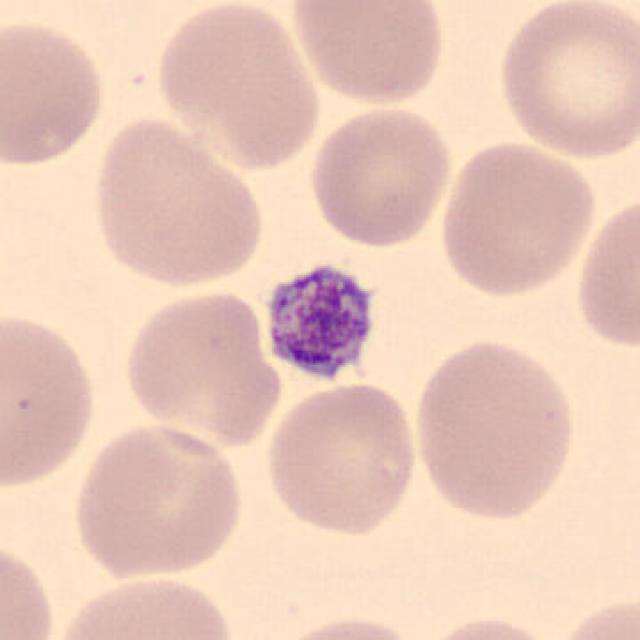Platelets: (260, 257, 384, 388)
RBC: (407, 333, 581, 524), (85, 111, 268, 291), (67, 420, 249, 584), (151, 0, 325, 171), (119, 284, 285, 451), (434, 136, 599, 301), (259, 379, 422, 540), (492, 0, 638, 162), (304, 100, 457, 250), (0, 304, 103, 496), (286, 0, 449, 109), (0, 14, 110, 169), (46, 569, 240, 640), (572, 189, 640, 356), (0, 532, 59, 640), (261, 610, 427, 640), (547, 590, 638, 640), (412, 612, 566, 640)
